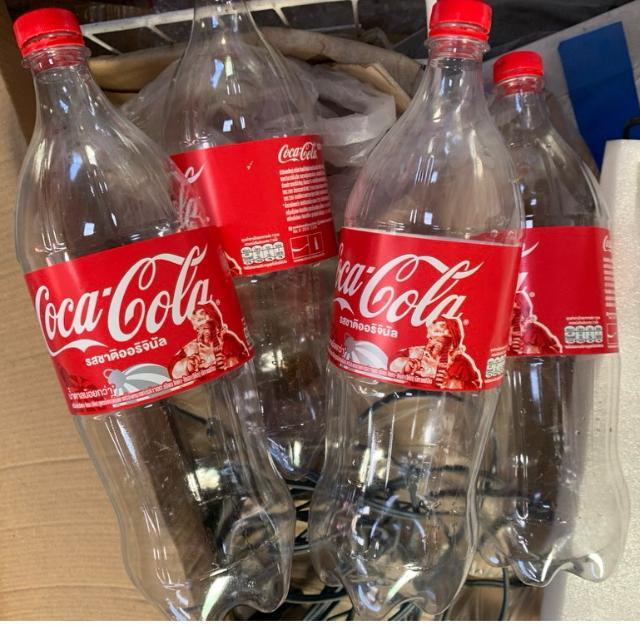PET Bottle: (0, 0, 304, 640), (328, 0, 526, 640), (485, 36, 640, 597), (169, 0, 353, 393)
